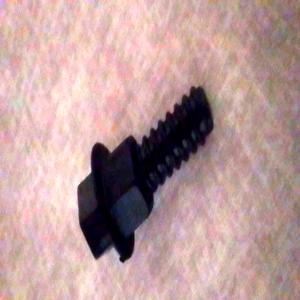parafuso: (74, 82, 216, 271)
